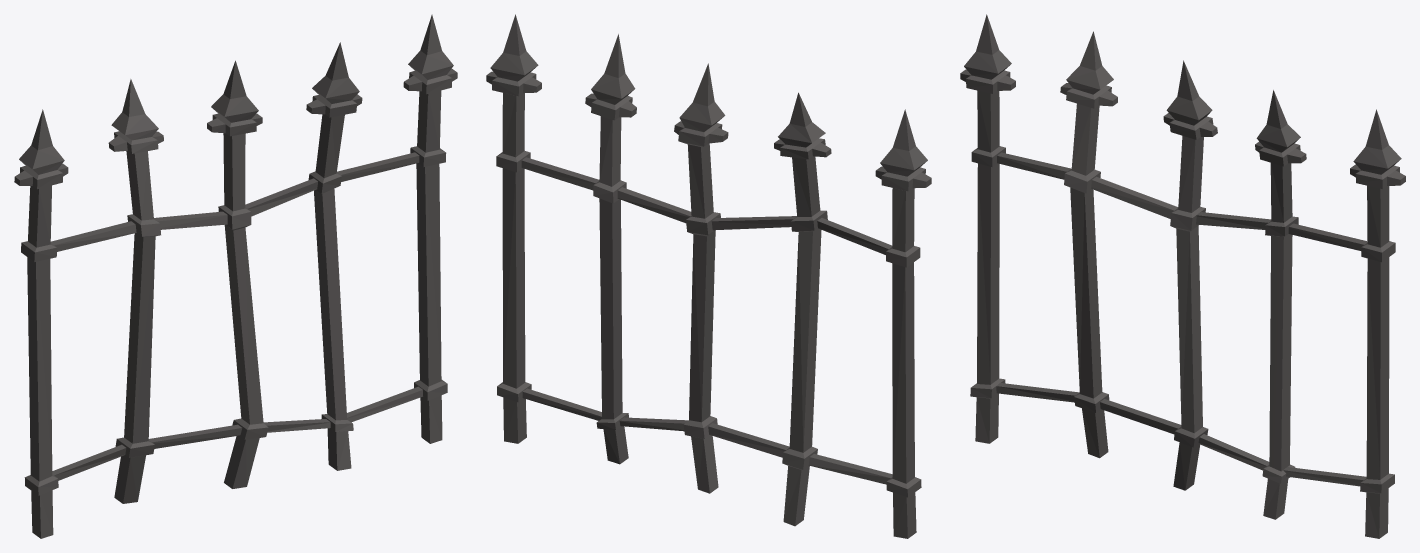
File: SM_Prop_Fence_01.gltf
3 renders of one model, left to right at view 1: azimuth 30°, elevation 25°; view 2: azimuth 150°, elevation 25°; view 3: azimuth 330°, elevation 25°, orthographic.
Visible parts, largest first — view 1: SM_Prop_Fence_01; view 2: SM_Prop_Fence_01; view 3: SM_Prop_Fence_01.
Part boxes in pixels (x1=…): SM_Prop_Fence_01: x1=14, y1=14, x2=457, y2=538; SM_Prop_Fence_01: x1=486, y1=14, x2=931, y2=538; SM_Prop_Fence_01: x1=960, y1=14, x2=1405, y2=538.
Bounding box in the file's own units: 1.66 × 1.54 × 0.1987.
Materials: 1 (1 with a texture image).
